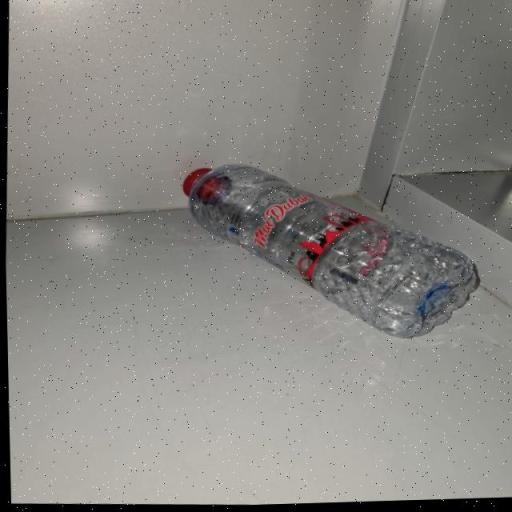plastic: (179, 160, 480, 350)
